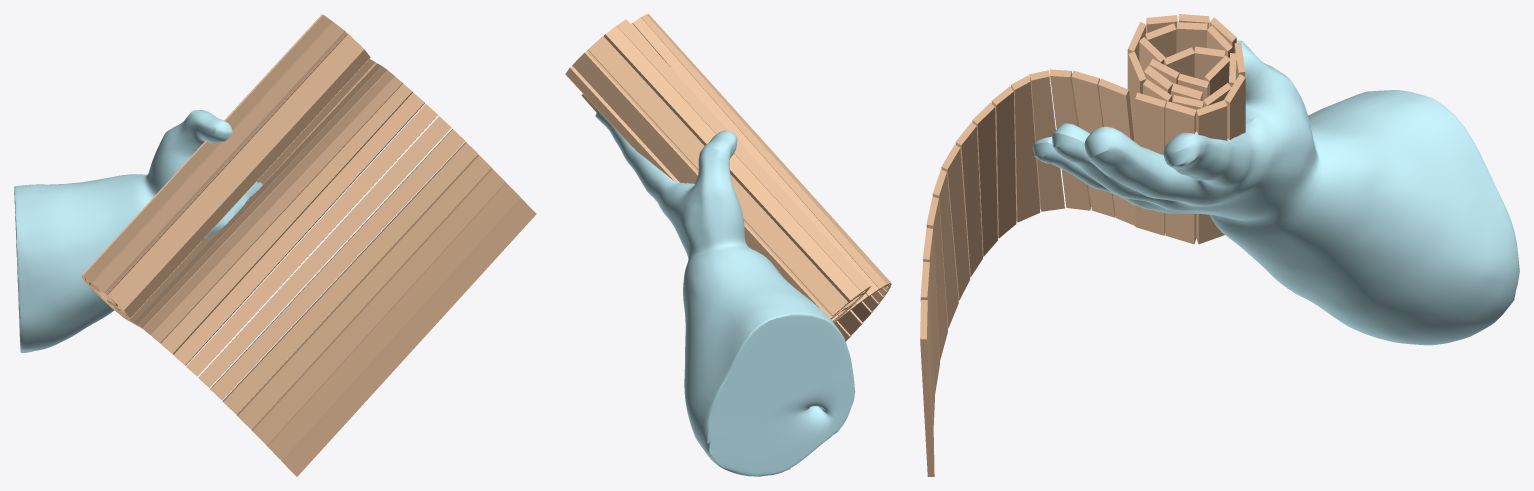
3 views of the same model, side by side, from view 1: azimuth 30°, elevation 25°; view 2: azimuth 150°, elevation 25°; view 3: azimuth 270°, elevation 25° (orthographic). The views are drawn at different scales.
Parts seen in each view (by area): view 1: zhujian, Retopo_shou; view 2: Retopo_shou, zhujian; view 3: Retopo_shou, zhujian.
Part boxes in pixels (x1,y1,x2,y2): zhujian: [81, 14, 536, 476]; Retopo_shou: [14, 110, 262, 352]; Retopo_shou: [595, 109, 855, 476]; zhujian: [565, 14, 891, 341]; Retopo_shou: [1032, 40, 1519, 345]; zhujian: [920, 14, 1245, 476].
Bounding box in the file's own units: 290 × 258 × 255.
